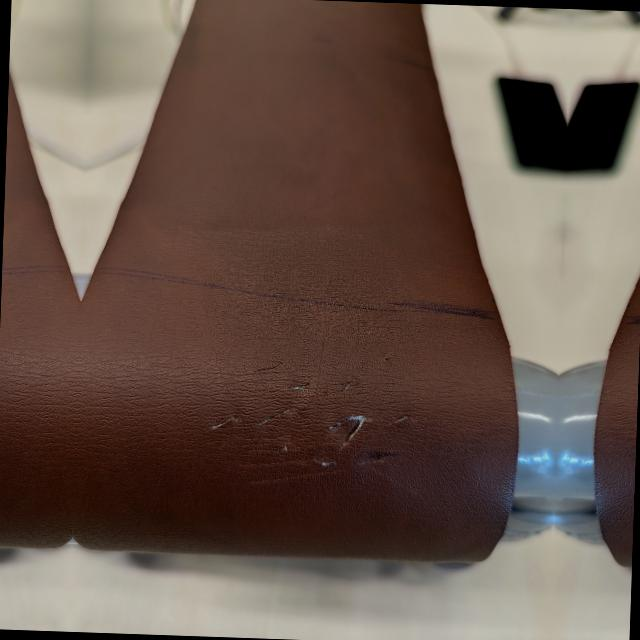belt_crack: (206, 356, 436, 486)
